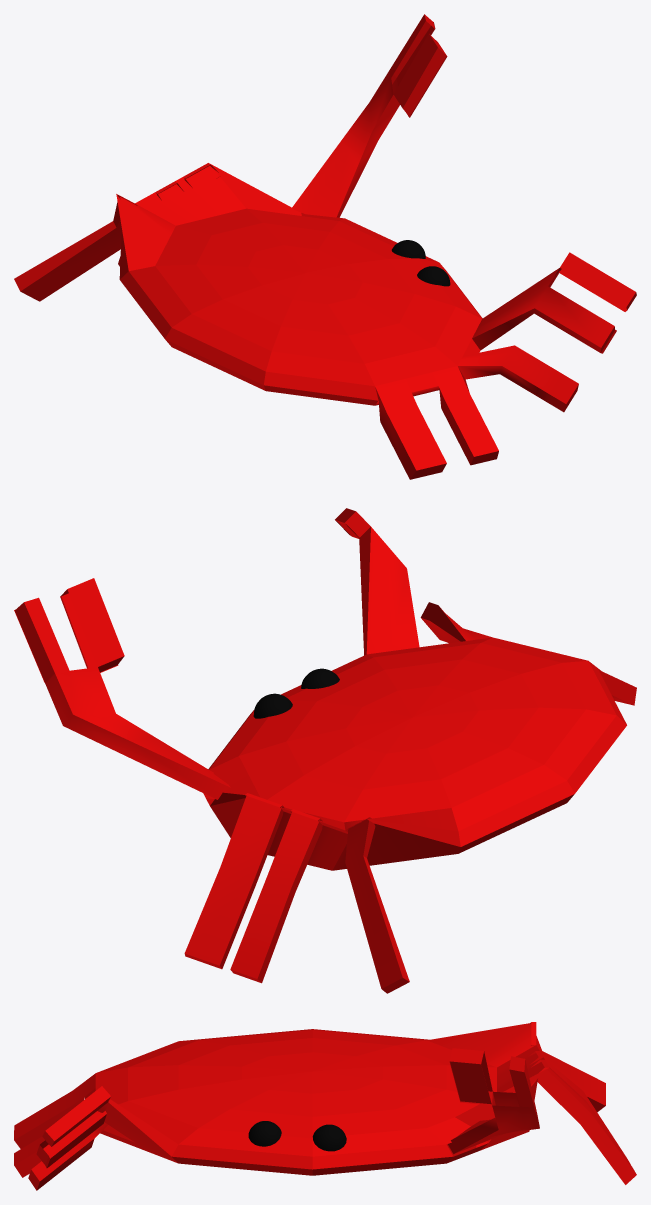
The model's file is crab.fbx.
3 renders of one model, top to bottom at view 1: azimuth 30°, elevation 25°; view 2: azimuth 150°, elevation 25°; view 3: azimuth 270°, elevation 25°, orthographic. The views are drawn at different scales.
Visible parts, largest first — view 1: pSphere1; view 2: pSphere1, pasted__pSphere2; view 3: pSphere1, pasted__pSphere2, pSphere2.
Boxes of the visible parts, bbox=[...] form: pSphere1: bbox=[14, 14, 636, 479]; pSphere1: bbox=[14, 508, 636, 993]; pasted__pSphere2: bbox=[253, 693, 292, 718]; pSphere1: bbox=[14, 1022, 636, 1190]; pasted__pSphere2: bbox=[312, 1124, 346, 1151]; pSphere2: bbox=[248, 1121, 281, 1146].
Bounding box in the file's own units: 1.38 × 0.8208 × 2.02.
